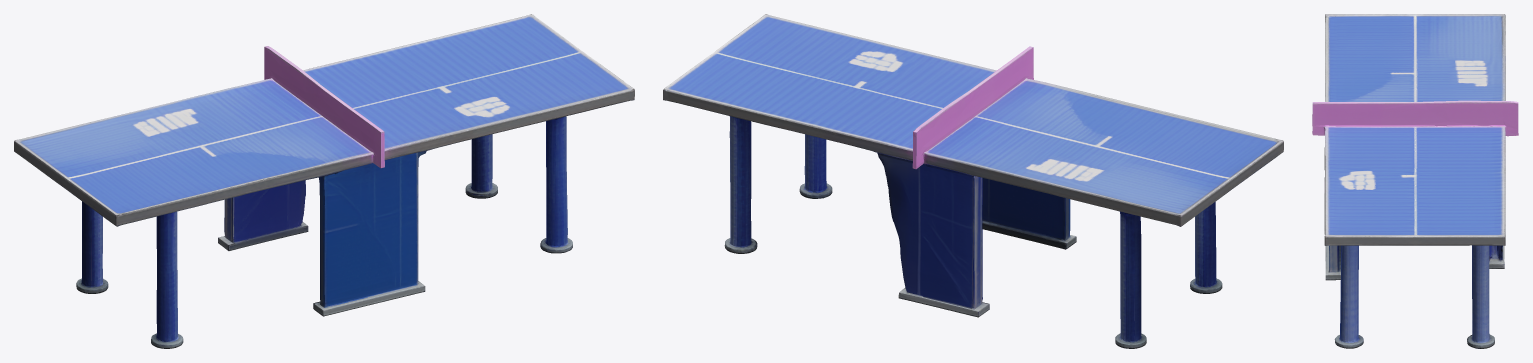
File: appearance_edited_mesh.glb
3 views of the same model, side by side, from view 1: azimuth 30°, elevation 25°; view 2: azimuth 150°, elevation 25°; view 3: azimuth 270°, elevation 25° (orthographic). The views are drawn at different scales.
Parts seen in each view (by area): view 1: world; view 2: world; view 3: world.
Part boxes in pixels (x1,y1,x2,y2): world: [14, 14, 634, 348]; world: [663, 14, 1283, 348]; world: [1312, 14, 1518, 348].
Size of the model in its own units: 0.8016 by 0.2653 by 0.3137.
1 material, 1 textured.
